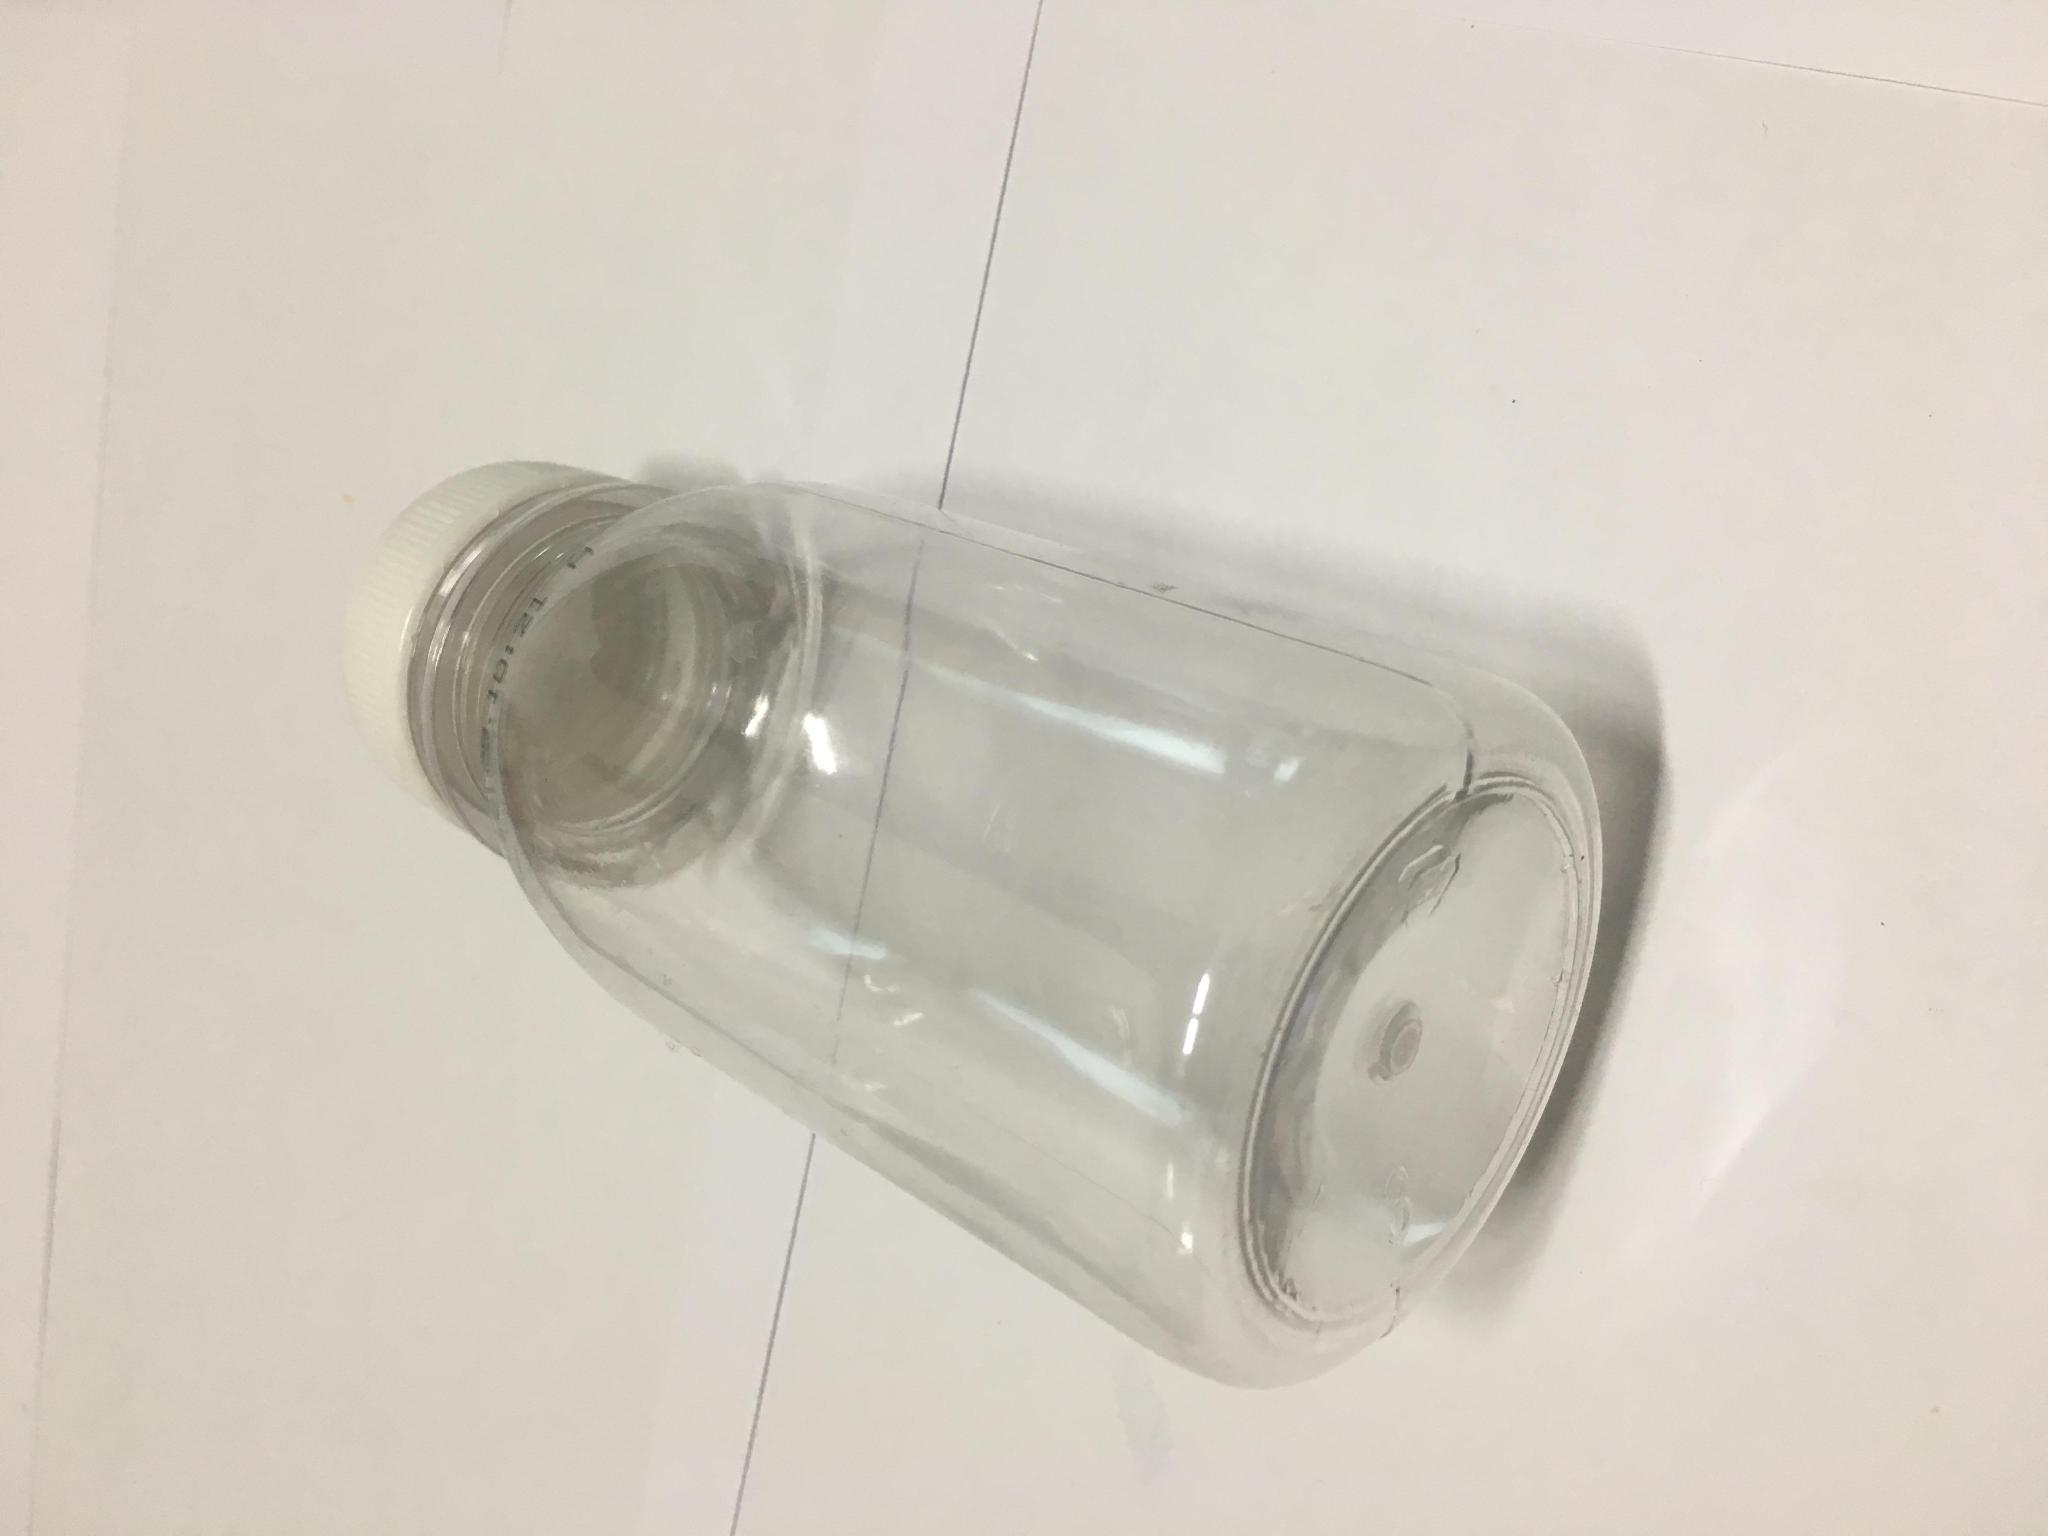bottle: (281, 418, 1623, 1396)
